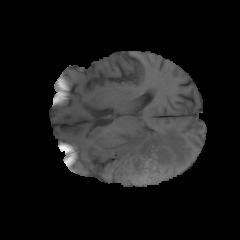glioma: (100, 128, 187, 186)
